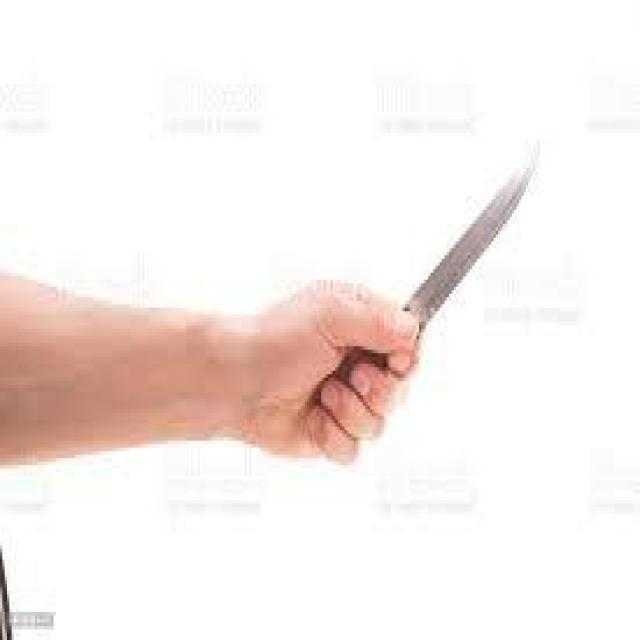faca: (272, 105, 550, 476)
